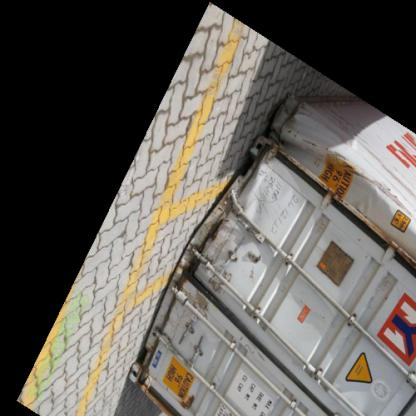Damage: (244, 129, 412, 225), (181, 224, 249, 316), (356, 260, 402, 316)
